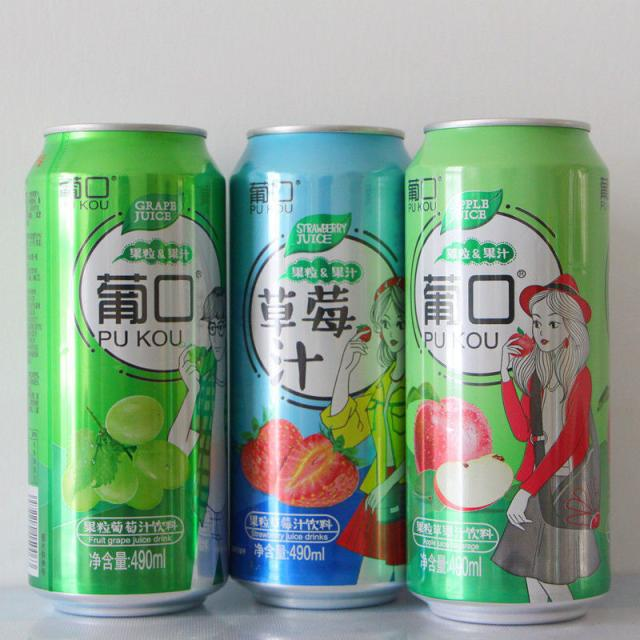can: (403, 114, 617, 629), (21, 119, 231, 623), (231, 118, 407, 615)
